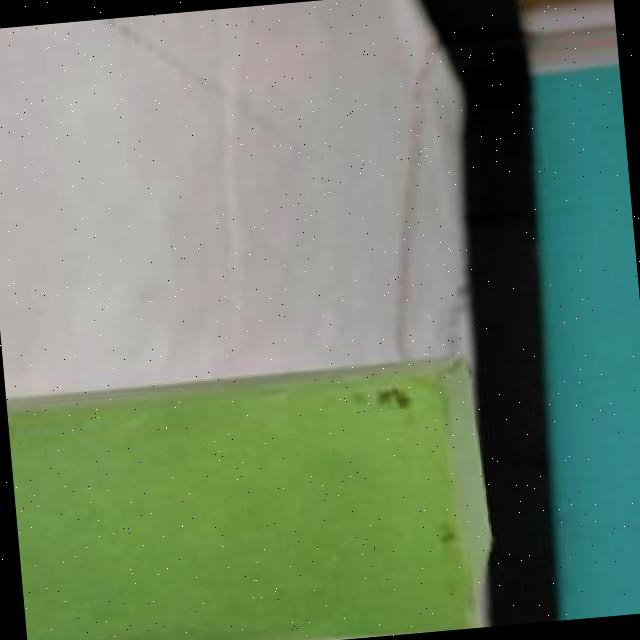greenbox: (6, 349, 495, 640)
